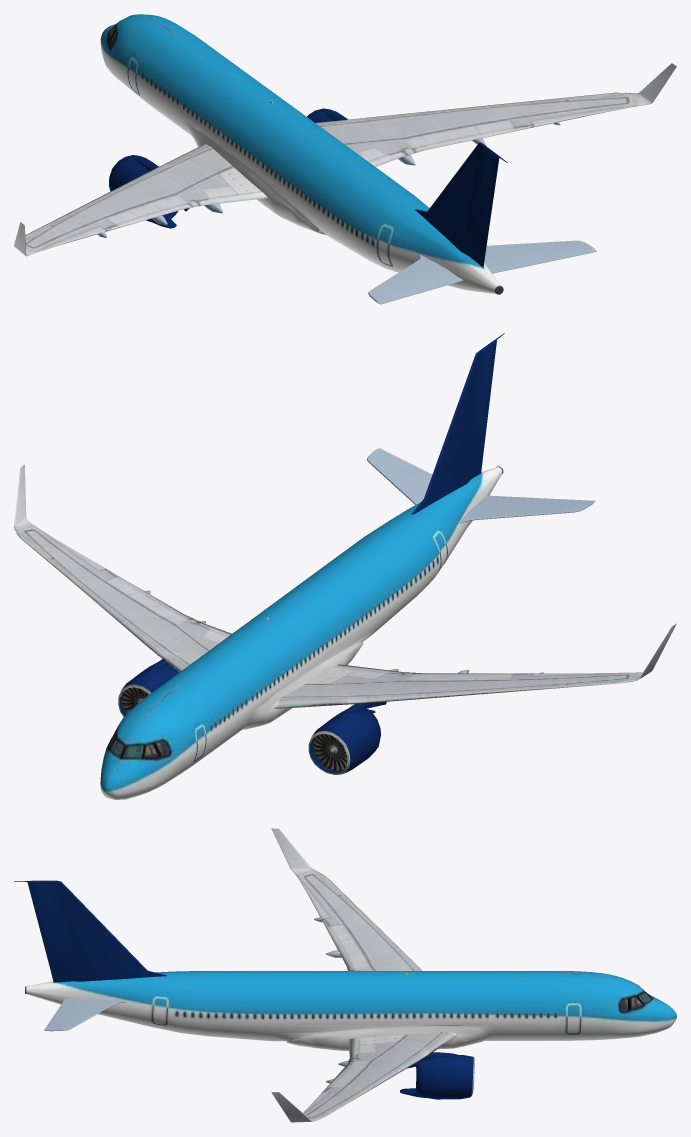
Rendered from avion-a320.lod0.glb.
3 renders of one model, top to bottom at view 1: azimuth 30°, elevation 25°; view 2: azimuth 150°, elevation 25°; view 3: azimuth 270°, elevation 25°, orthographic. The views are drawn at different scales.
Visible parts, largest first — view 1: airplane; view 2: airplane; view 3: airplane.
Boxes of the visible parts, bbox=[...] form: airplane: bbox=[14, 14, 676, 304]; airplane: bbox=[14, 333, 676, 799]; airplane: bbox=[14, 828, 676, 1122].
Bounding box in the file's own units: 35.48 × 11.32 × 37.68.
Materials: 1 (1 with a texture image).
